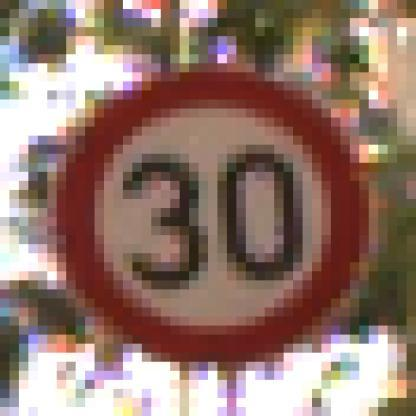Speed Limit -30-: (69, 58, 347, 338)
